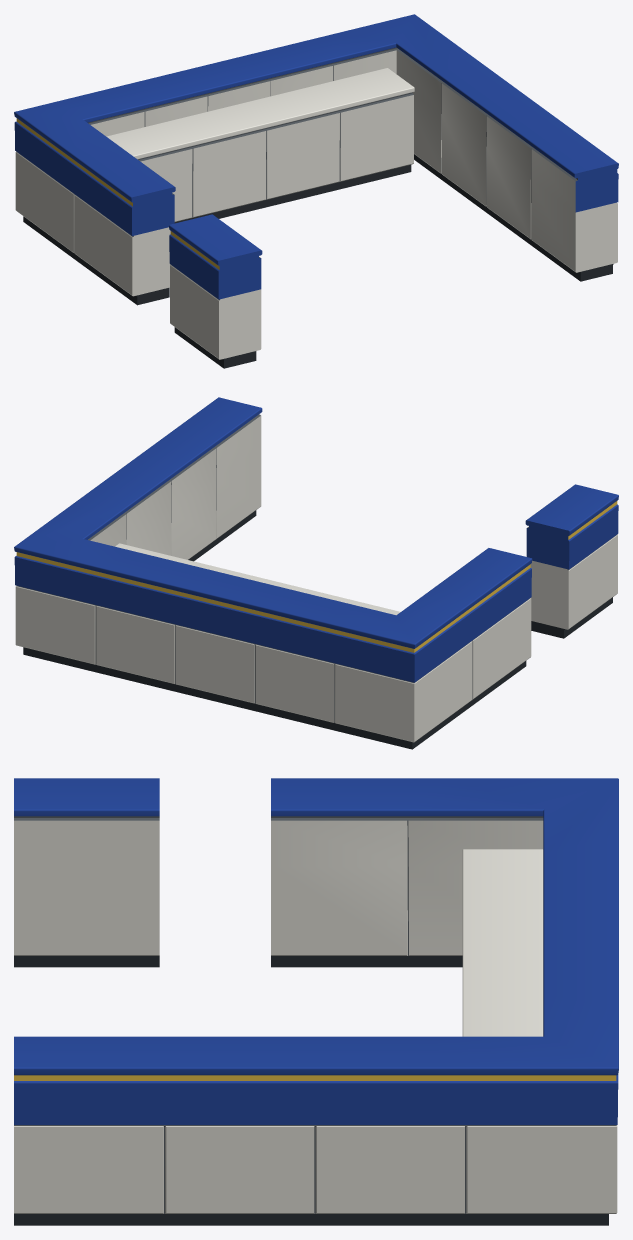
The model's file is checkout-counter-usquare-laminate.glb.
3 views of the same model, one above another, from view 1: azimuth 30°, elevation 25°; view 2: azimuth 150°, elevation 25°; view 3: azimuth 270°, elevation 25° (orthographic). The views are drawn at different scales.
Visible parts, largest first — view 1: usquare-surround-0, usquare-work-cabinet, usquare-surround-1; view 2: usquare-surround-0, usquare-surround-1, usquare-work-cabinet; view 3: usquare-surround-0, usquare-surround-1, usquare-work-cabinet.
Boxes of the visible parts, x1,y1,x2,y2 form: usquare-surround-0: (14,14,618,305); usquare-work-cabinet: (106,68,414,223); usquare-surround-1: (169,214,262,368); usquare-surround-0: (14,397,532,749); usquare-surround-1: (525,484,618,638); usquare-work-cabinet: (115,543,400,615); usquare-surround-0: (14,778,618,1225); usquare-surround-1: (14,778,159,967); usquare-work-cabinet: (462,849,543,1036).
Bounding box in the file's own units: 13.6 × 3.54 × 11.99.
